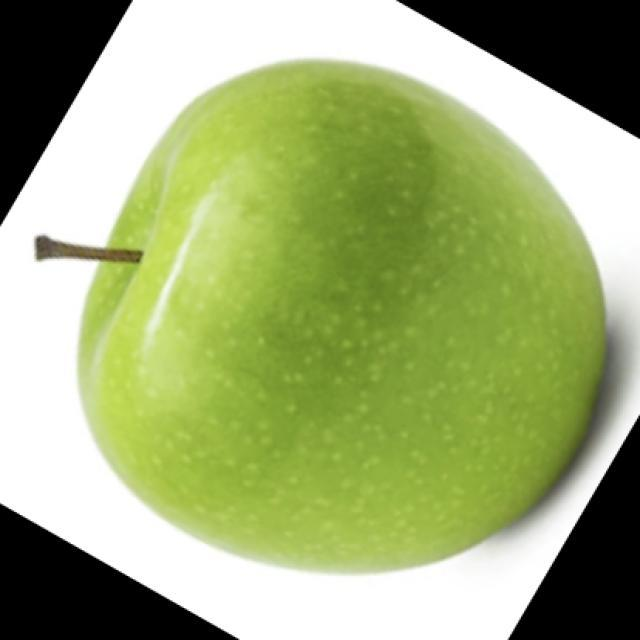Fresh Apple: (81, 79, 616, 548)
